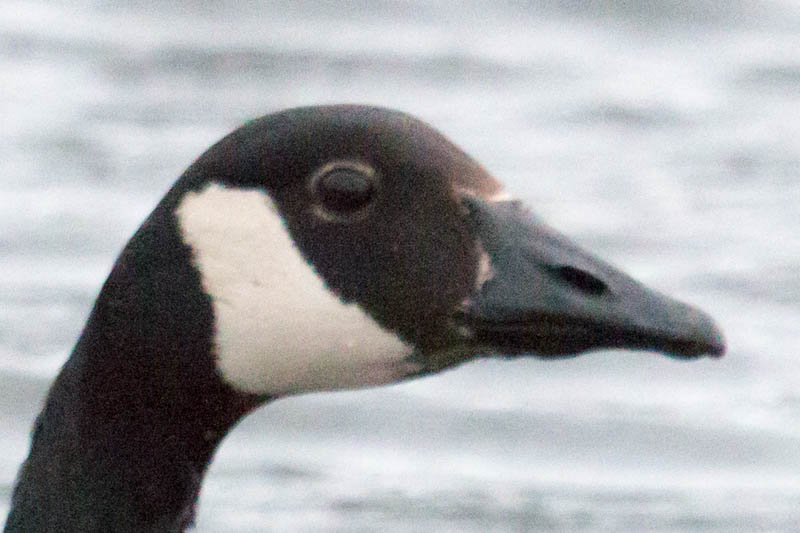goose-head: (109, 105, 726, 406)
